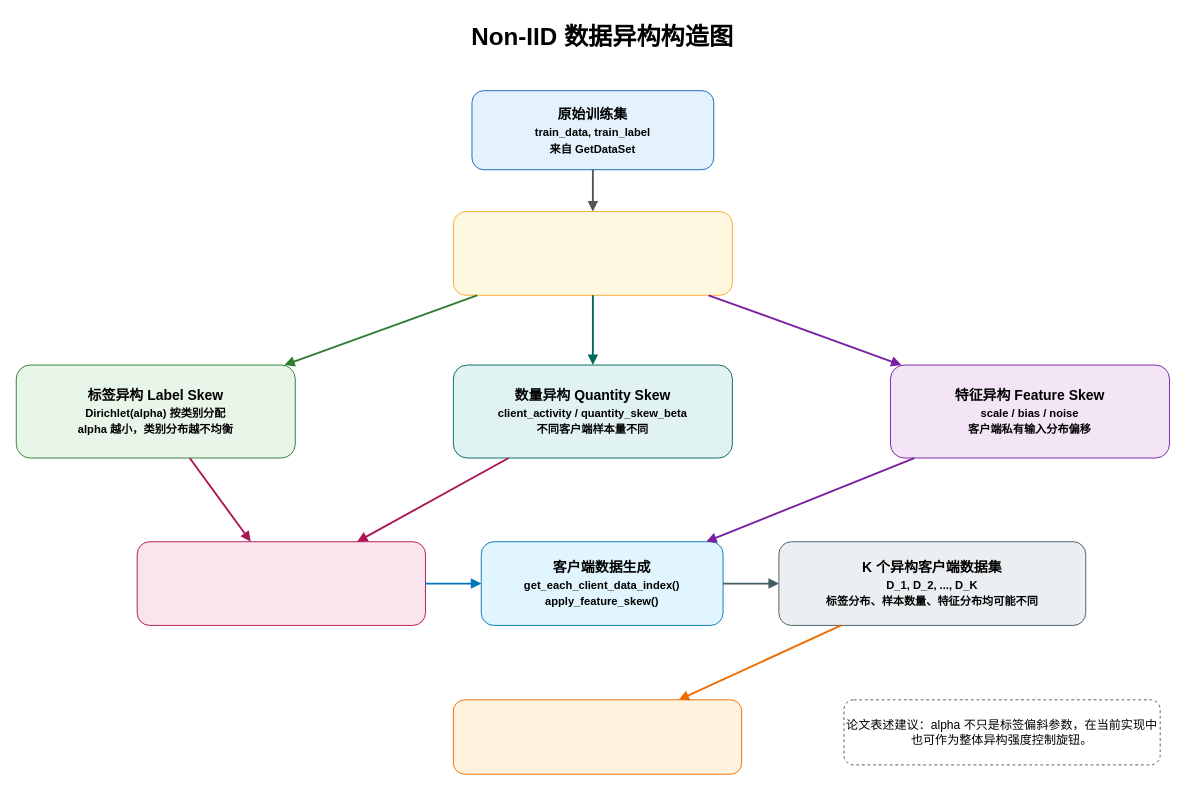
The diagram is 1186 pixels wide and 791 high, and some of its shapes have lost their labels. The centre of each missing label's shape, as x and y in pixels:
"最小样本约束与重试机制 min_samples_per_client 最多重试 100 次，避免极端划分失稳" goes at point (280, 583).
"统一异构强度解析 resolve_heterogeneity_options() dirichlet_alpha 同时控制多类异构" goes at point (592, 253).
"输入联邦训练主干 FedAvg / fedfed_prototype 对比实验" goes at point (597, 736).
